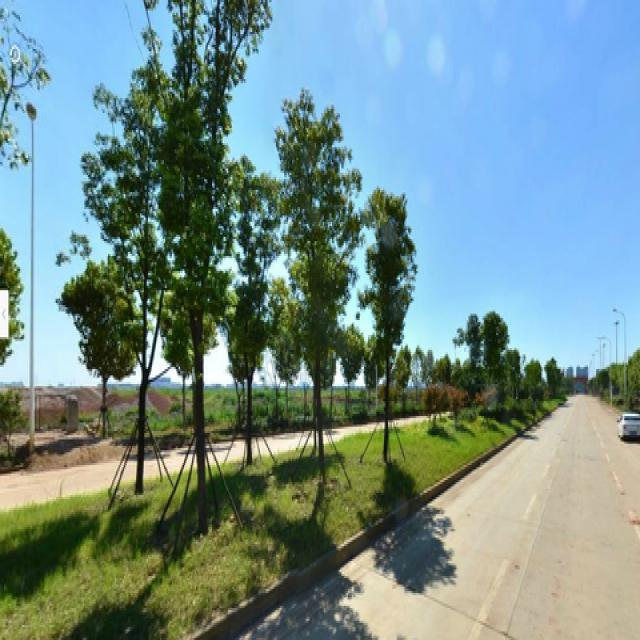cinn: (162, 10, 242, 492), (282, 118, 346, 456), (362, 181, 426, 482)
